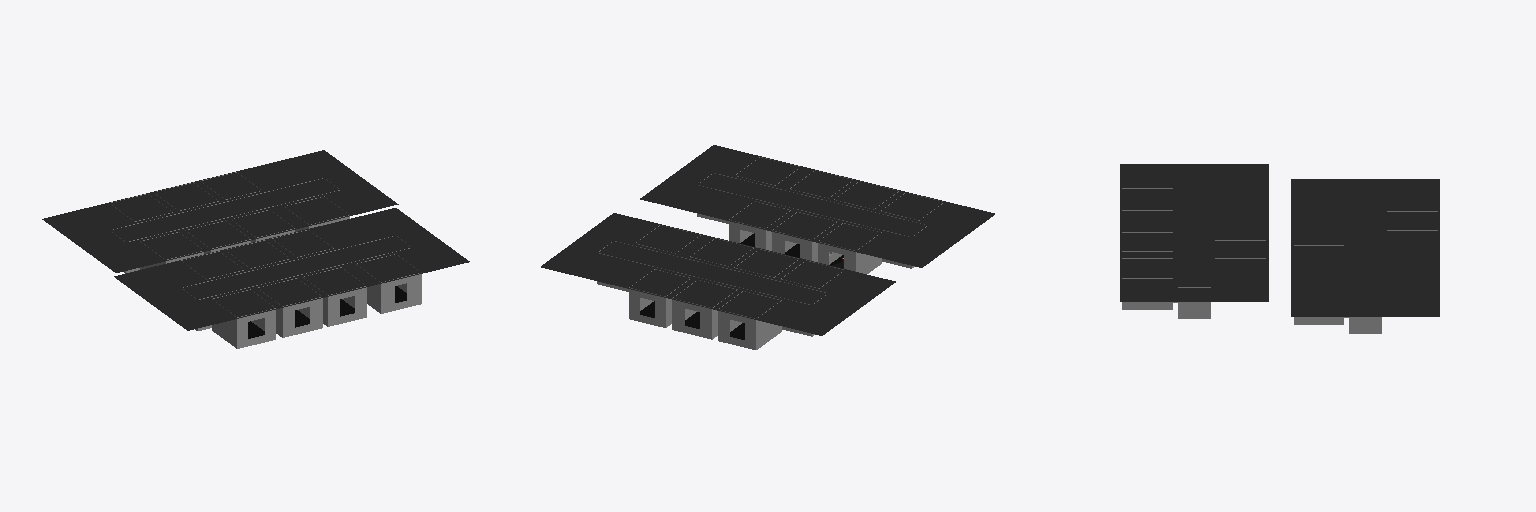
Rendered from Rooms.obj.
3 views of the same model, side by side, from view 1: azimuth 30°, elevation 25°; view 2: azimuth 150°, elevation 25°; view 3: azimuth 270°, elevation 25° (orthographic).
Parts seen in each view (by area): view 1: Плоскость.007_Плоскость.038, Плоскость.013_Плоскость.044; view 2: Плоскость.013_Плоскость.044, Плоскость.007_Плоскость.038; view 3: Плоскость.007_Плоскость.038, Плоскость.013_Плоскость.044.
Boxes of the visible parts, x1=… form: Плоскость.007_Плоскость.038: x1=114, y1=208, x2=469, y2=348; Плоскость.013_Плоскость.044: x1=42, y1=150, x2=398, y2=273; Плоскость.013_Плоскость.044: x1=541, y1=213, x2=895, y2=349; Плоскость.007_Плоскость.038: x1=640, y1=145, x2=994, y2=273; Плоскость.007_Плоскость.038: x1=1120, y1=164, x2=1268, y2=318; Плоскость.013_Плоскость.044: x1=1291, y1=179, x2=1439, y2=333.
Bounding box in the file's own units: 51.84 × 6.73 × 48.46.